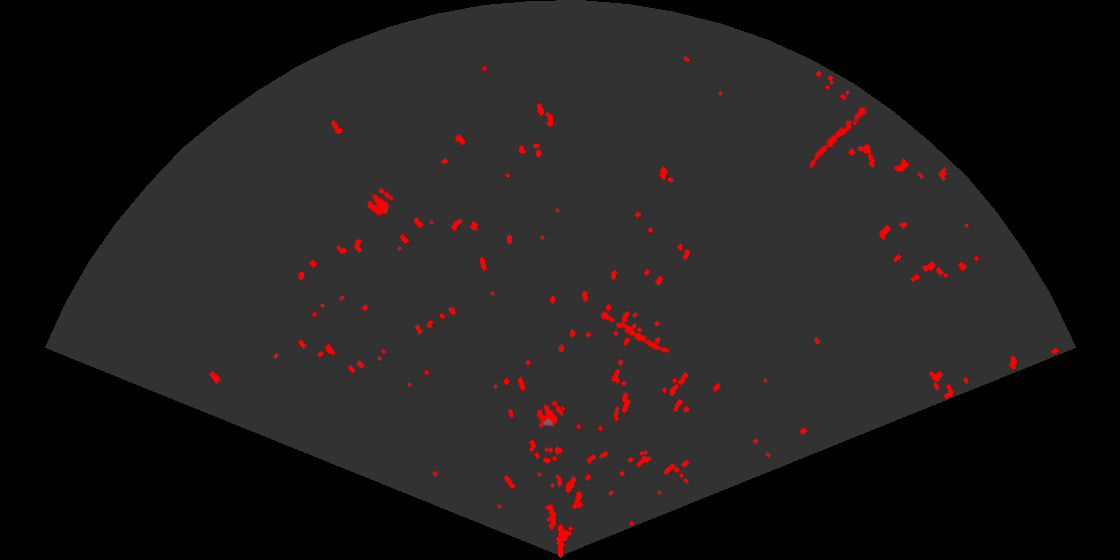ball: (365, 187, 395, 217), (535, 399, 565, 429)
chain: (808, 99, 872, 170), (591, 305, 672, 355)
